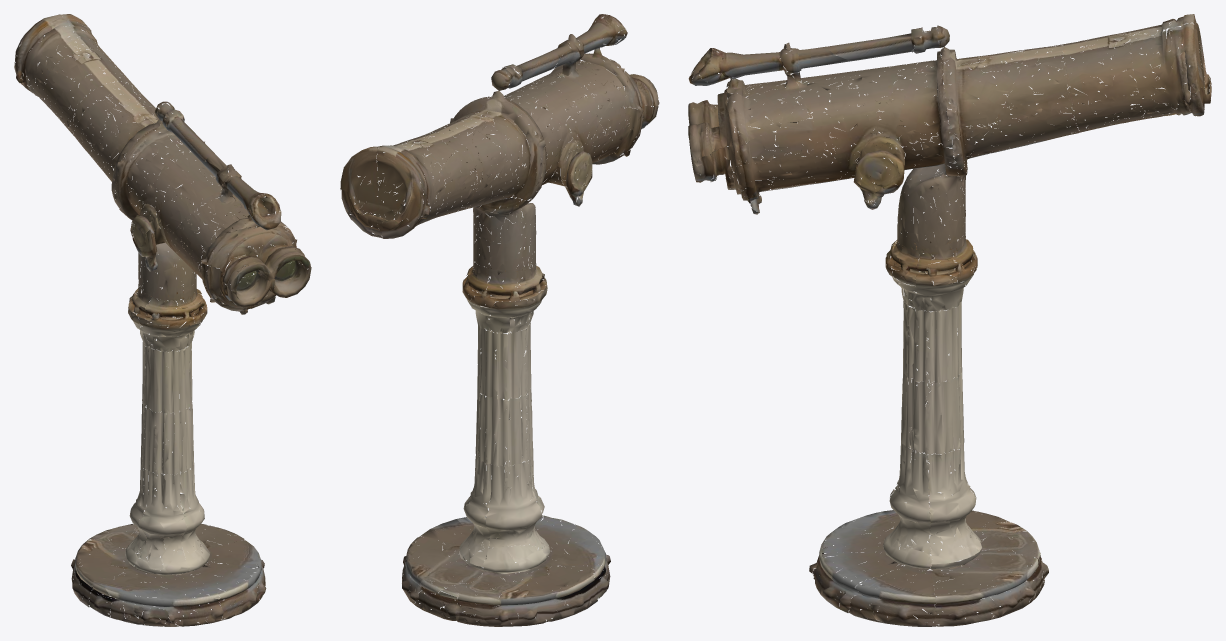
The model's file is loyalty-brass-telescope.glb.
The picture shows the model from 3 angles, left to right: view 1: azimuth 30°, elevation 25°; view 2: azimuth 150°, elevation 25°; view 3: azimuth 270°, elevation 25°; orthographic projection. The views are drawn at different scales.
Visible parts, largest first — view 1: tripo_node_bbb32042-3209-46aa-b0f5-3ad6de7955e9; view 2: tripo_node_bbb32042-3209-46aa-b0f5-3ad6de7955e9; view 3: tripo_node_bbb32042-3209-46aa-b0f5-3ad6de7955e9.
Boxes of the visible parts, x1,y1,x2,y2 form: tripo_node_bbb32042-3209-46aa-b0f5-3ad6de7955e9: (14, 14, 311, 626); tripo_node_bbb32042-3209-46aa-b0f5-3ad6de7955e9: (340, 14, 659, 626); tripo_node_bbb32042-3209-46aa-b0f5-3ad6de7955e9: (688, 14, 1211, 626).
Bounding box in the file's own units: 0.3624 × 1 × 0.8422.
Materials: 1 (1 with a texture image).
